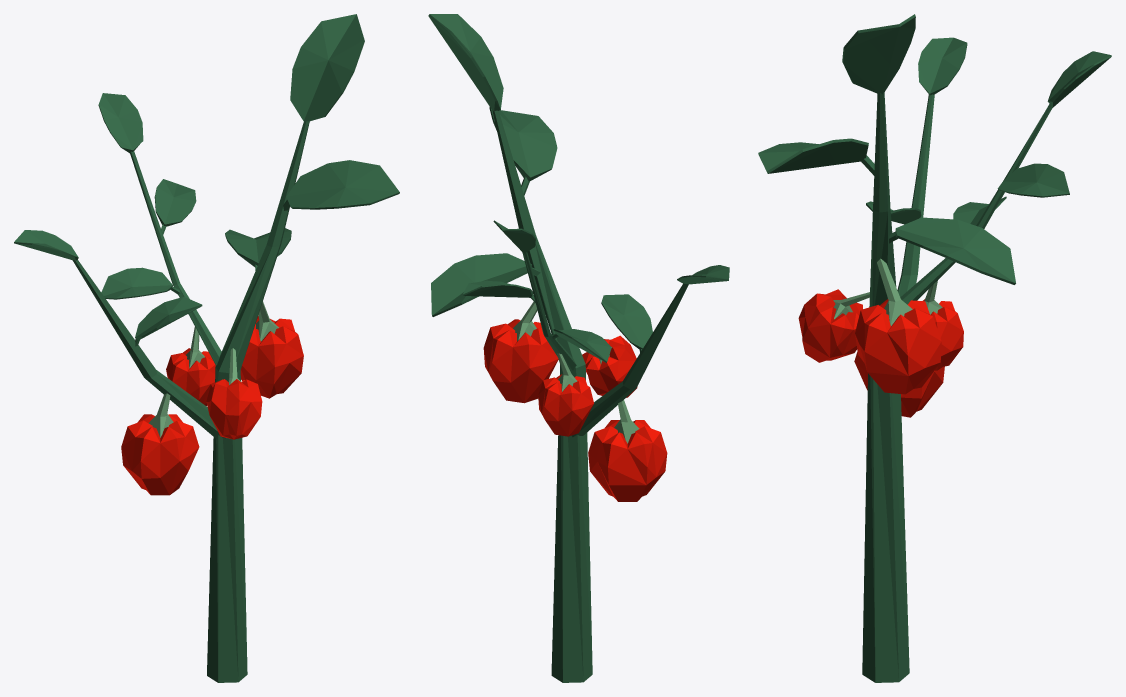
File: mod_Plant_PoivronRouge.fbx
The picture shows the model from 3 angles, left to right: view 1: azimuth 30°, elevation 25°; view 2: azimuth 150°, elevation 25°; view 3: azimuth 270°, elevation 25°; orthographic projection. The views are drawn at different scales.
Visible parts, largest first — view 1: TigePoivron.001, Poivron4.001, Poivron2.001, Poivron3.001, Poivron1.001; view 2: TigePoivron.001, Poivron4.001, Poivron2.001, Poivron1.001, Poivron3.001; view 3: TigePoivron.001, Poivron2.001, Poivron3.001, Poivron1.001, Poivron4.001.
Boxes of the visible parts, <box> form: TigePoivron.001: <box>14,14,399,682</box>; Poivron4.001: <box>121,393,199,495</box>; Poivron2.001: <box>240,301,303,398</box>; Poivron3.001: <box>206,348,262,439</box>; Poivron1.001: <box>166,327,215,406</box>; TigePoivron.001: <box>428,14,729,682</box>; Poivron4.001: <box>588,400,667,501</box>; Poivron2.001: <box>483,301,558,403</box>; Poivron1.001: <box>538,353,593,436</box>; Poivron3.001: <box>582,335,637,397</box>; TigePoivron.001: <box>758,14,1111,682</box>; Poivron2.001: <box>855,258,941,394</box>; Poivron3.001: <box>798,289,869,362</box>; Poivron1.001: <box>923,280,963,370</box>; Poivron4.001: <box>854,351,944,417</box>.
Bounding box in the file's own units: 46.74 × 87.08 × 38.42.
